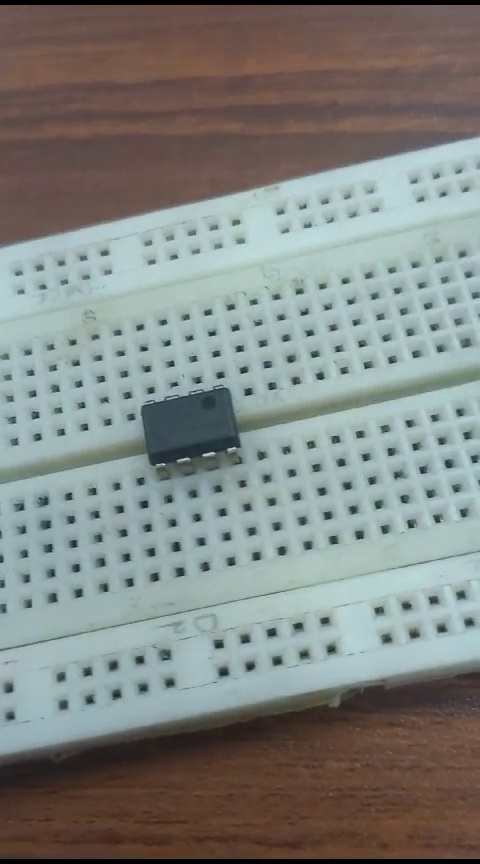IC: (119, 387, 264, 479)
